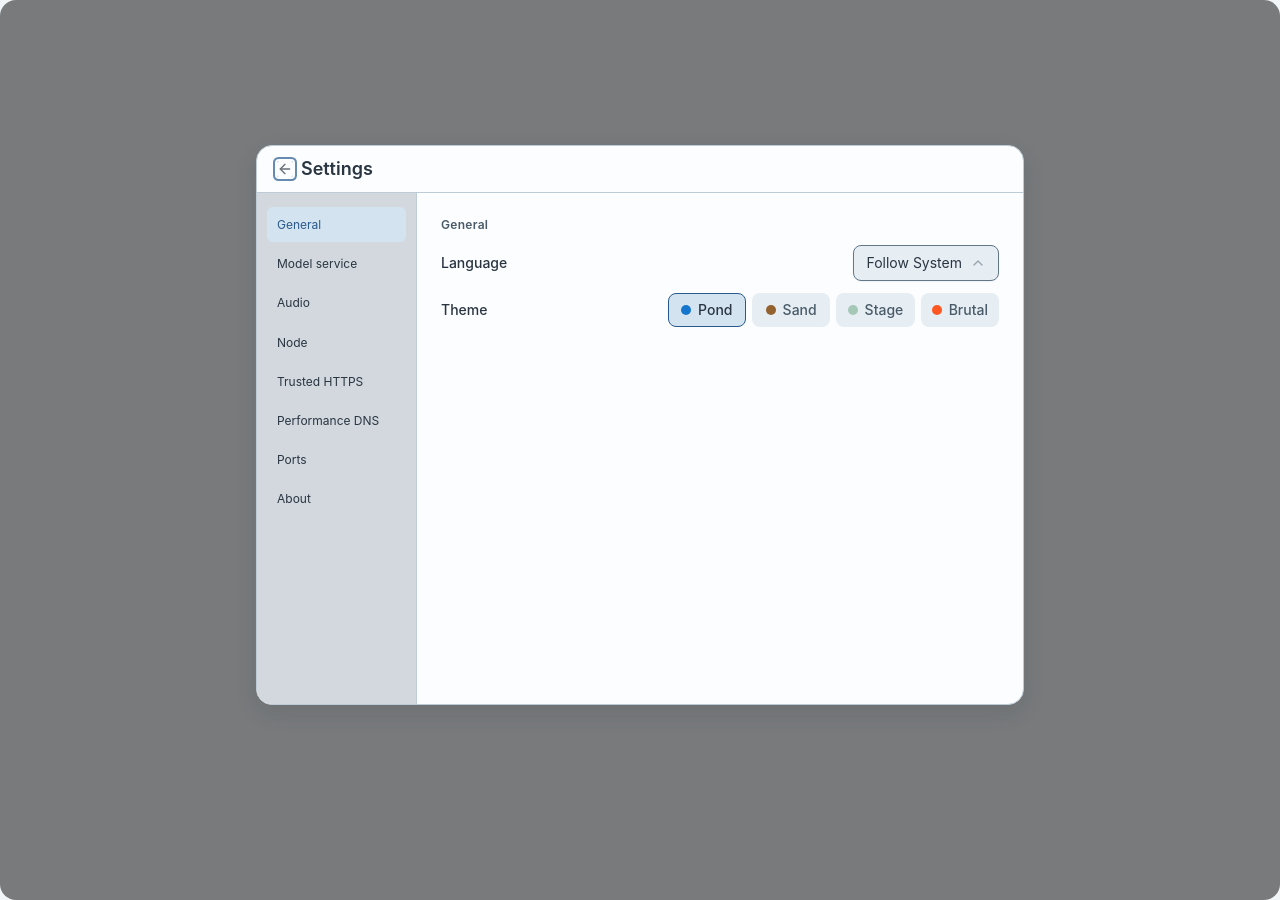
Scenario: SettingsPanel (v1.2.0 issue #13) › offers categorized settings and preserves the general identity controls
Expected: the heading "General" is shown, [441,217,488,232]
Expected: the element named "Theme" is shown, [668,293,999,327]
Click the button "Audio" at (336, 303), box [267,285,406,321]
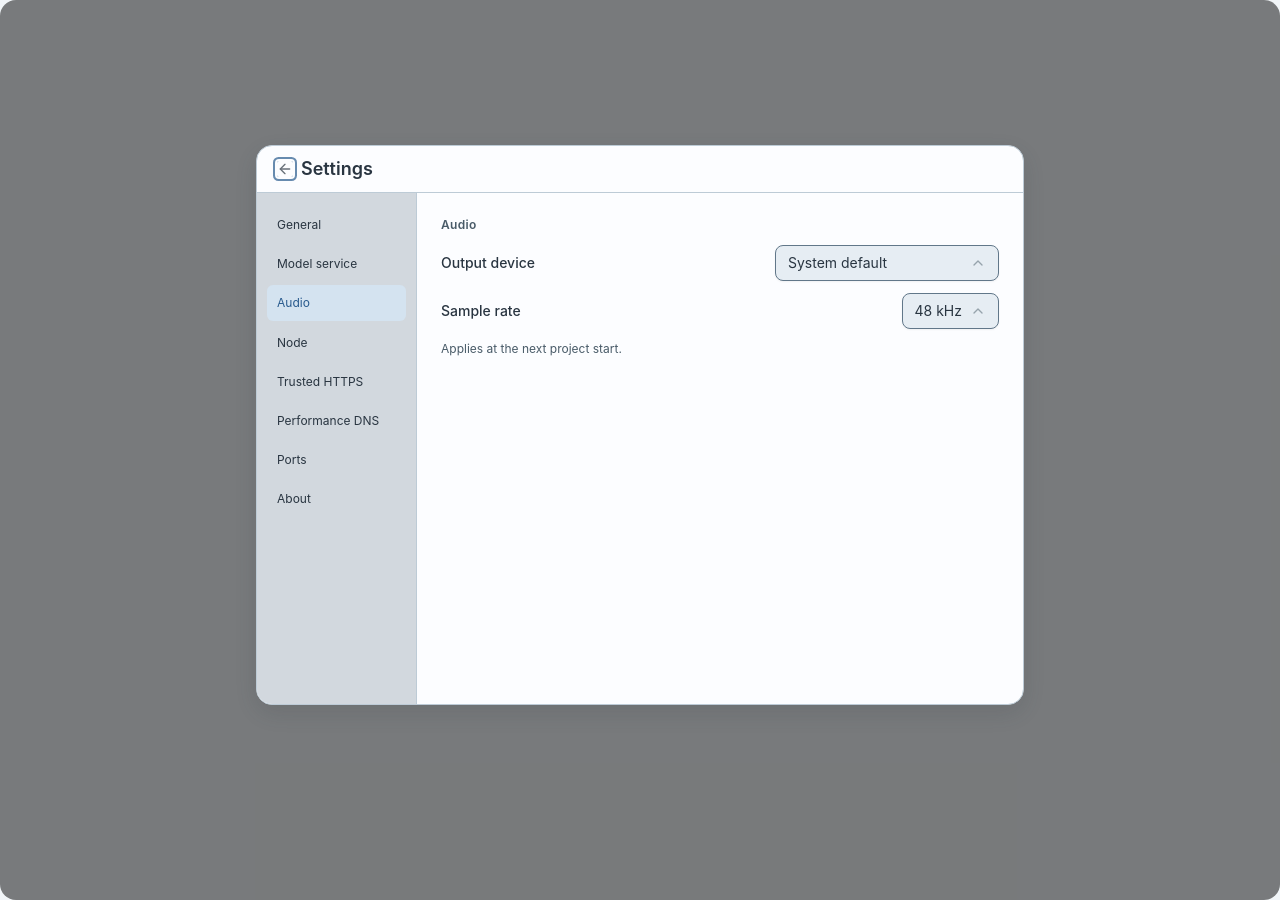
Result: the heading "Audio" is shown at [441,217,476,232]
Click the button "Node" at (336, 342), box [267,325,406,360]
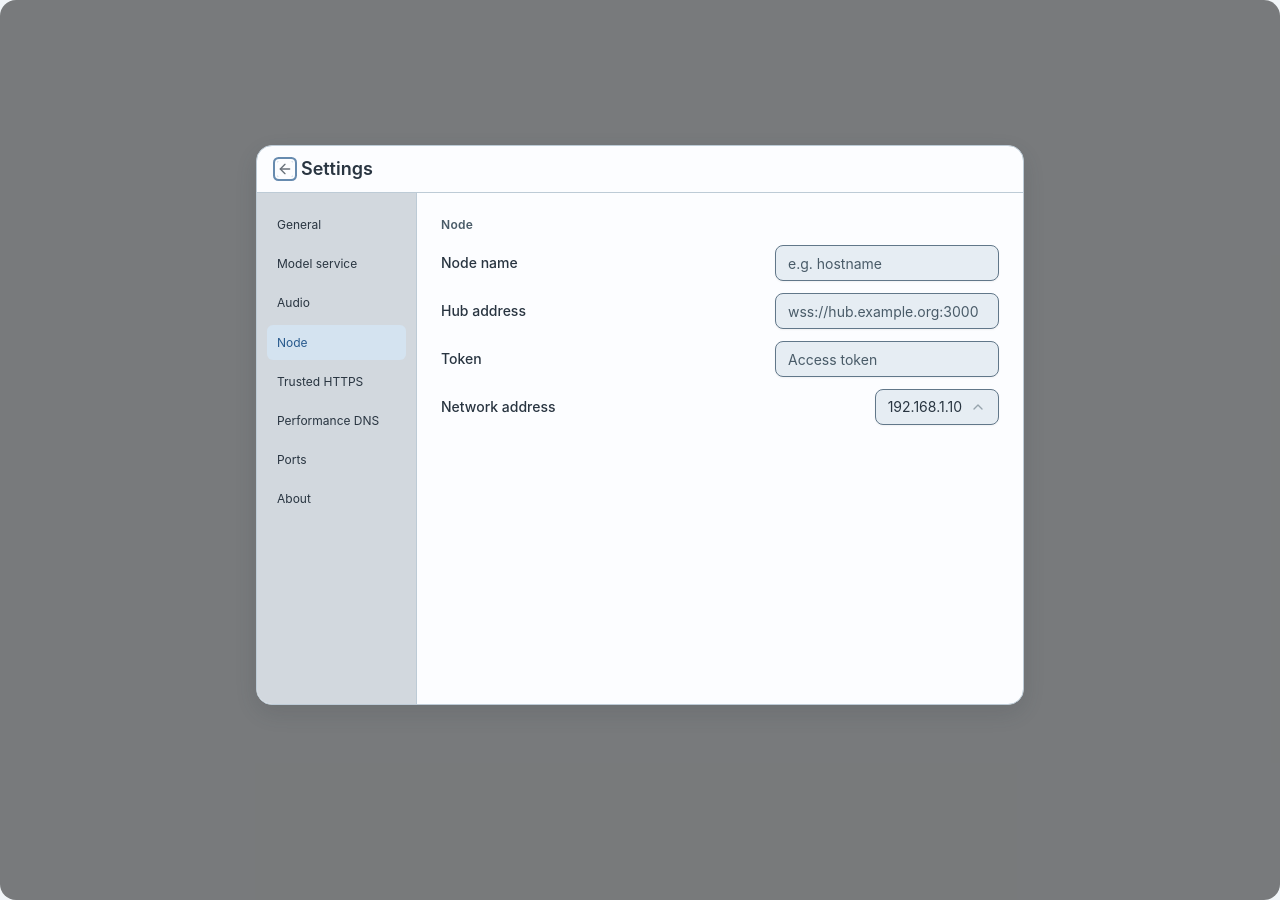
Result: the heading "Node" is shown at [441,217,473,232]
Click the button "Ports" at (336, 460), box [267,442,406,477]
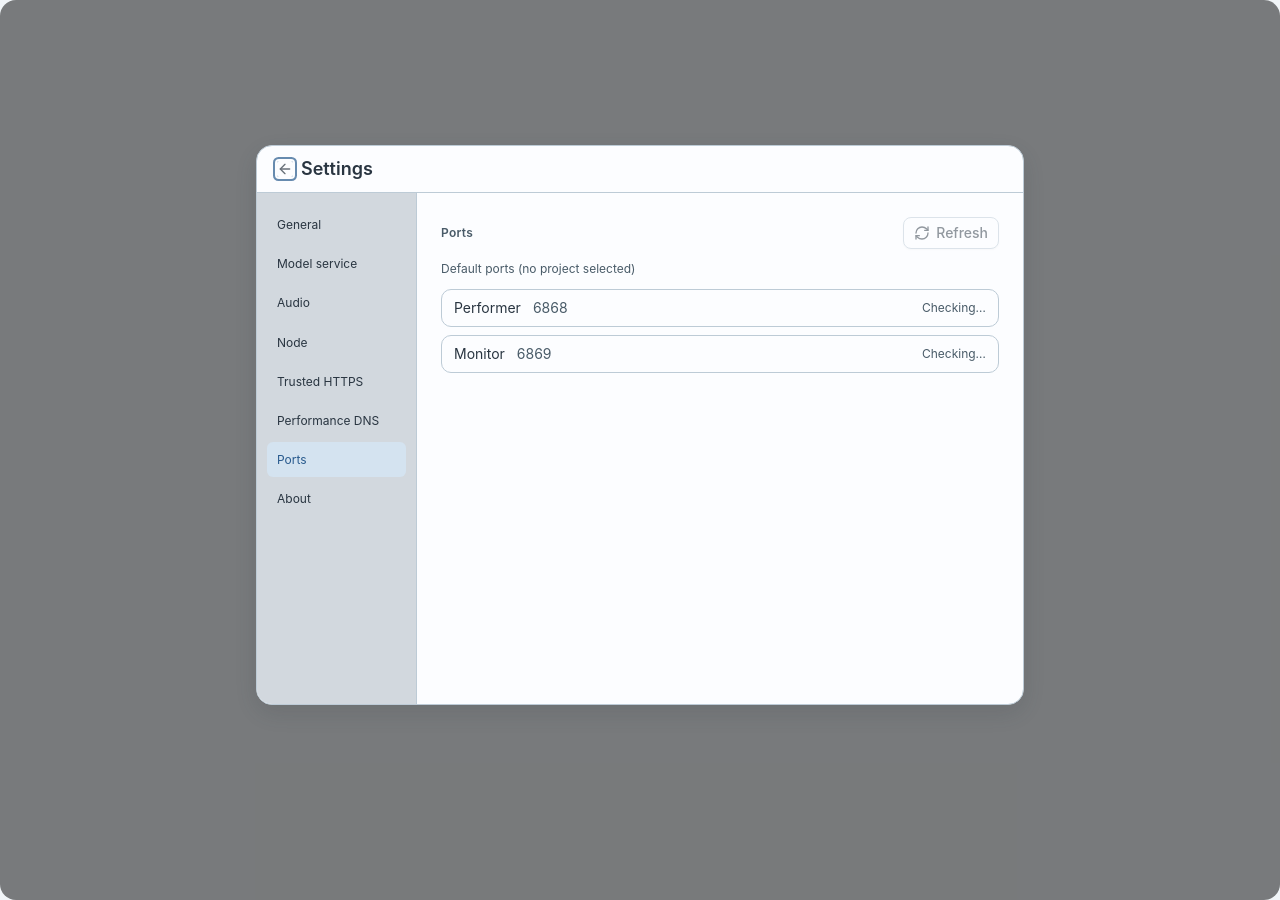
Result: the heading "Ports" is shown at [441,225,473,241]
Click the button "About" at (336, 499), box [267,481,406,516]
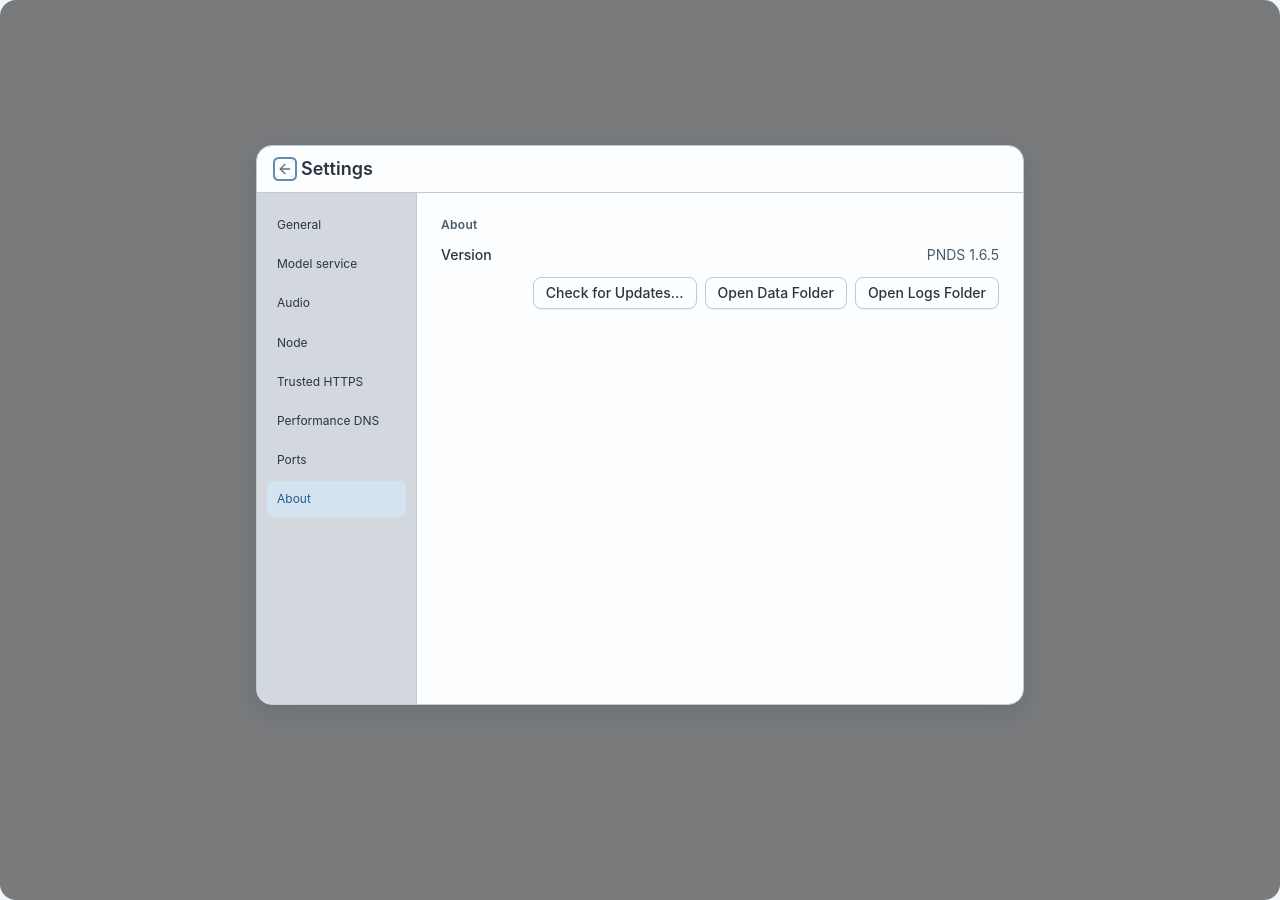
Result: the heading "About" is shown at [441,217,478,232]
